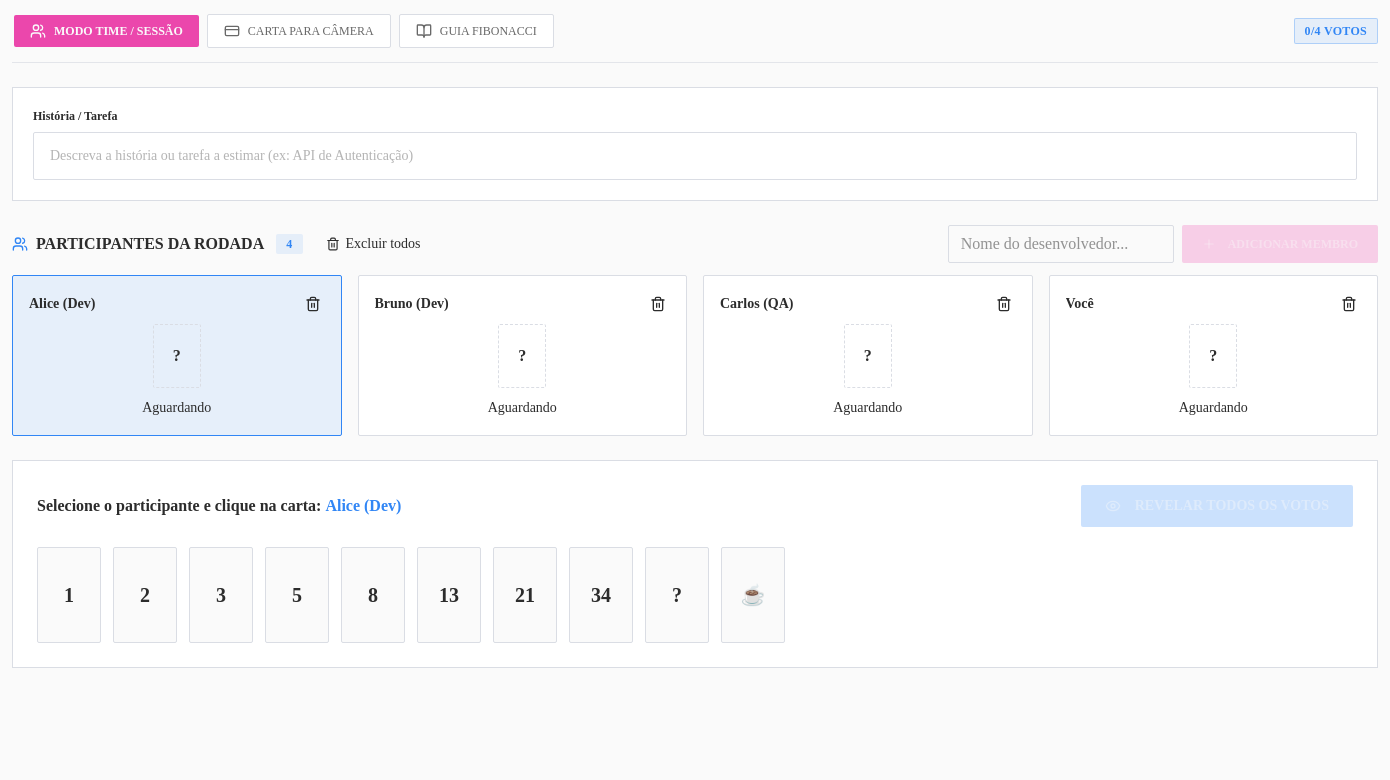
Test: Agile Tools Integration Tests › PlanningPokerClient › switches to camera mode
Click the tab "Carta para Câmera" at coordinates (299, 31), box [207,14,391,48]
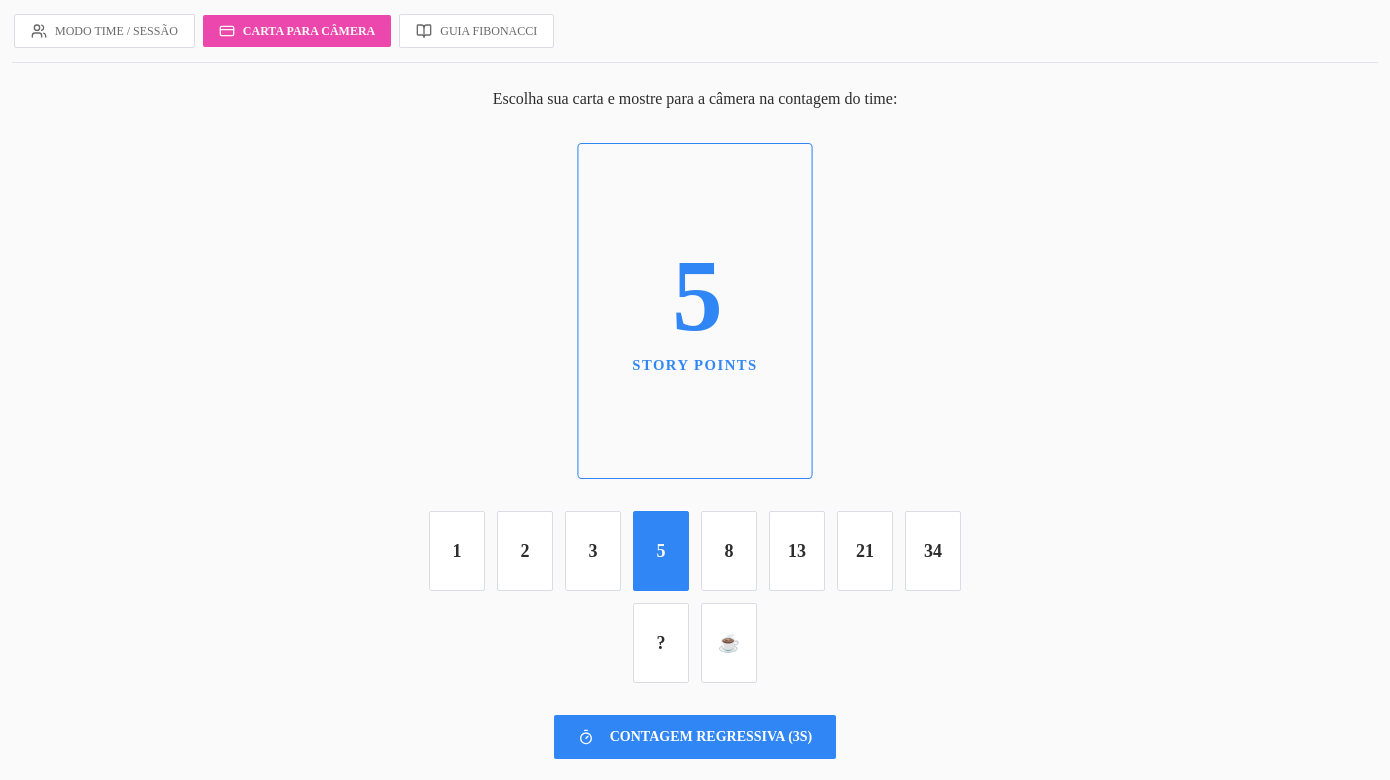
Result: the text "Contagem Regressiva (3s)" is shown at [610,727,812,747]
